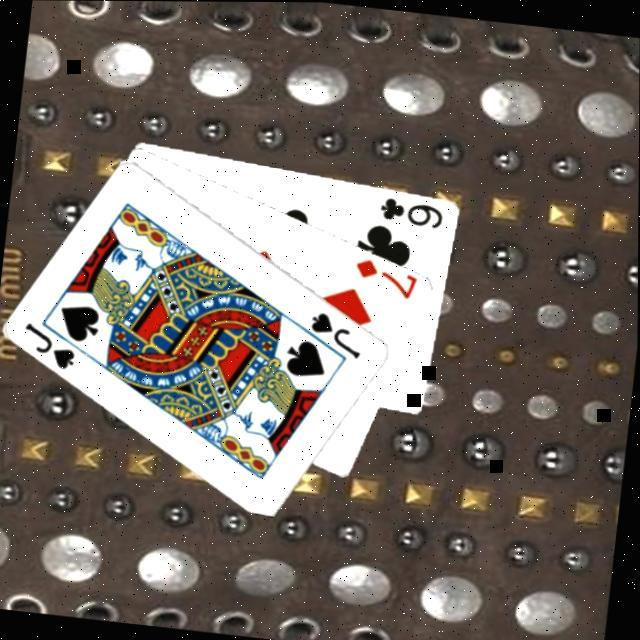6C: (375, 192, 447, 231)
7D: (348, 254, 421, 303)
JS: (17, 319, 81, 374), (303, 308, 366, 362)
